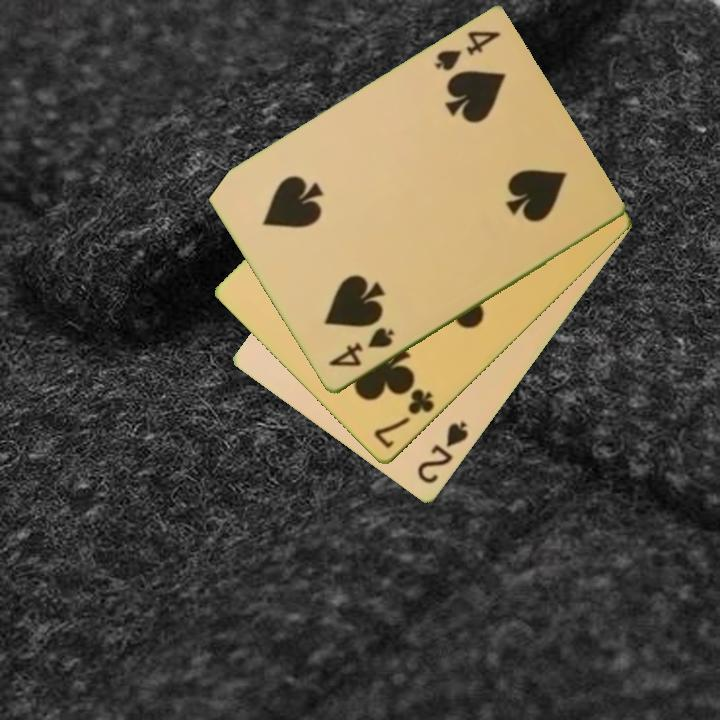2s: (414, 418, 472, 488)
4s: (431, 27, 503, 75), (324, 324, 397, 371)
7c: (370, 386, 437, 452)
